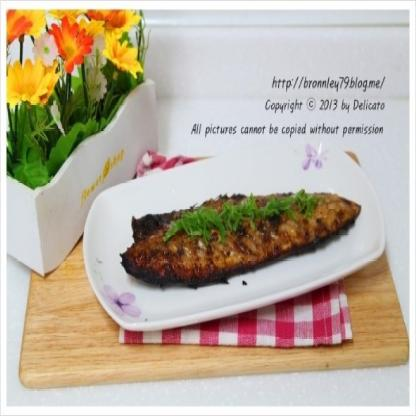Peixe: (106, 162, 360, 296)
